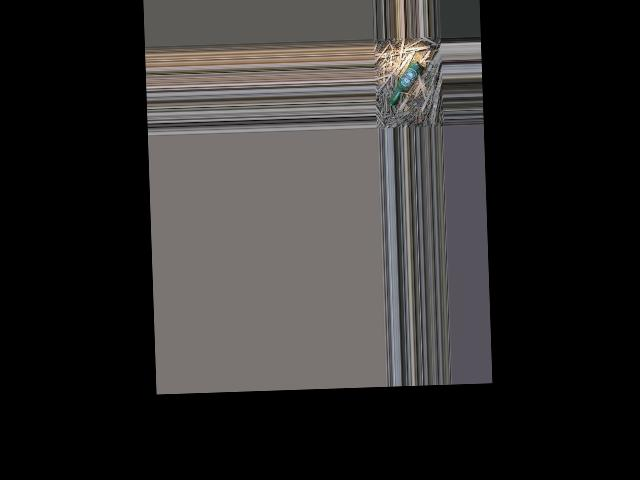beer: (388, 60, 425, 106)
